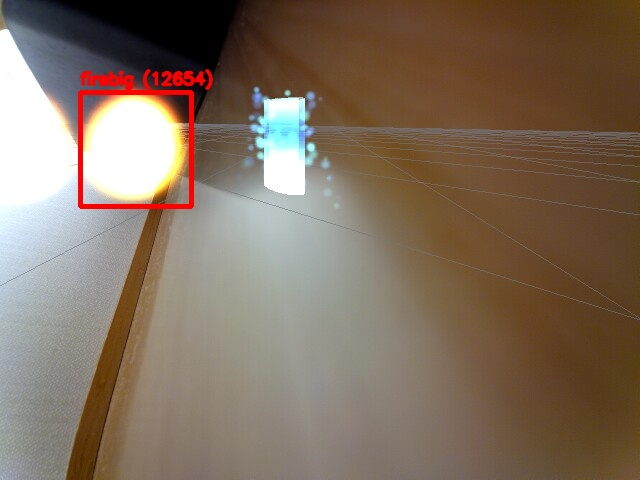firebig: (80, 92, 191, 206)
